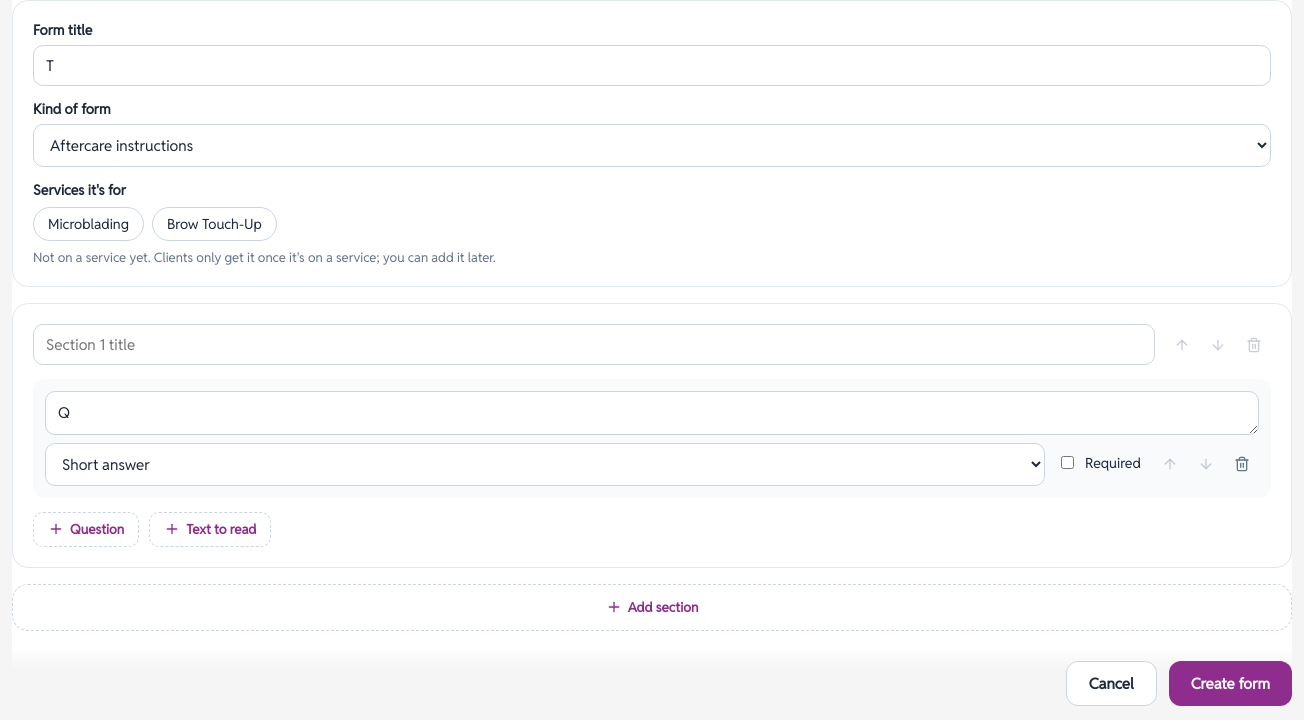
it: building a form from scratch › shows what the API said when saving fails
Click the button "Create form" at (1230, 683), box [1169,661,1292,706]
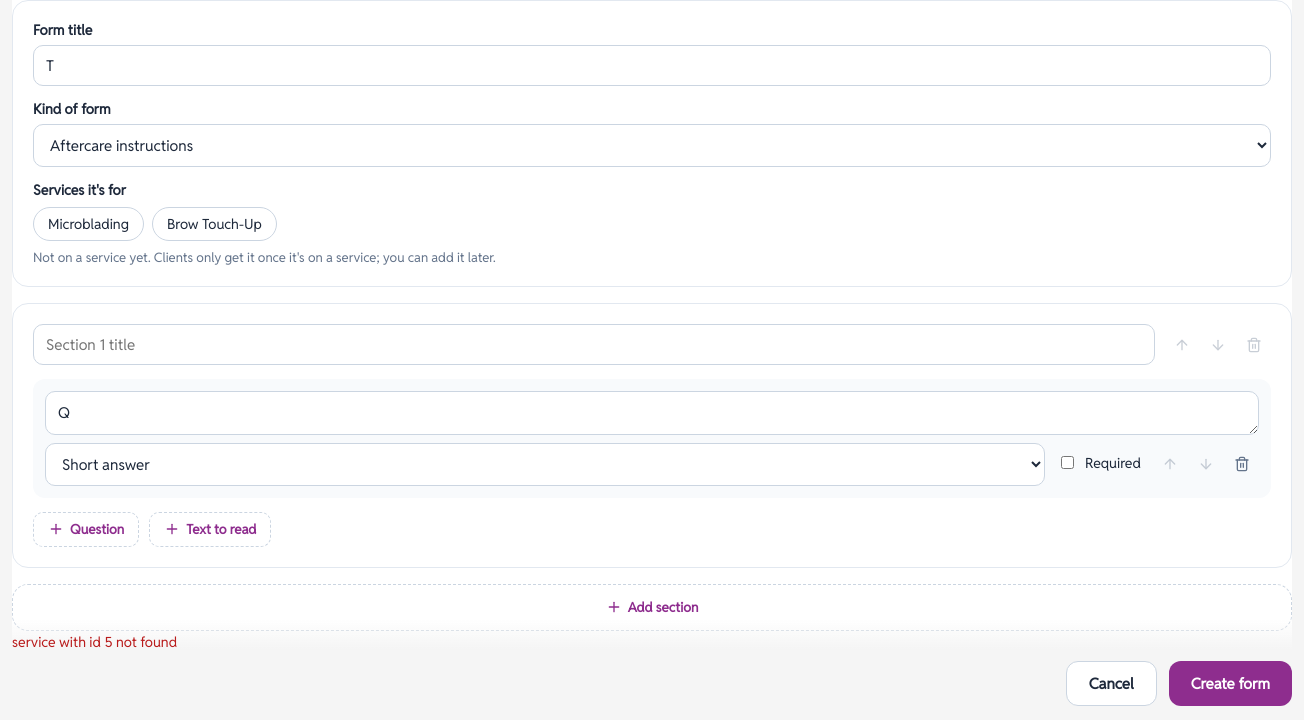
expect the message reads "service with id 5 not found": met, box [12,633,177,651]
